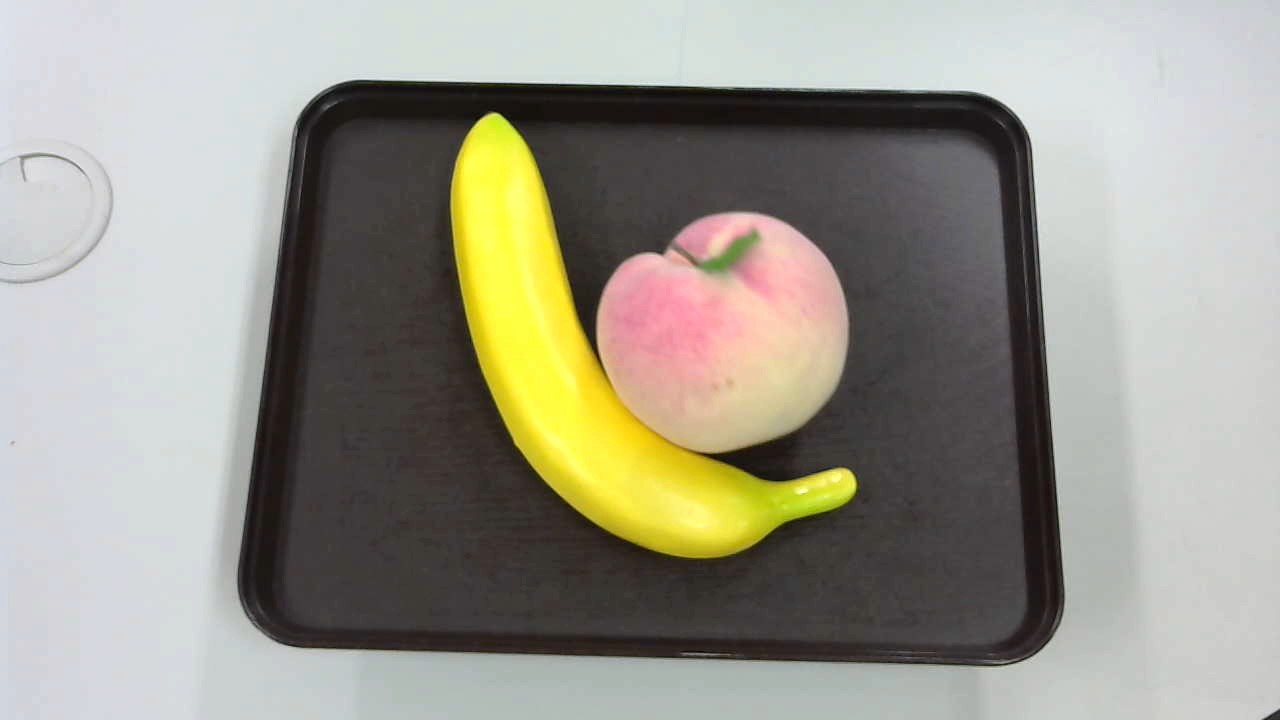banana: (438, 105, 856, 553)
peach: (584, 209, 854, 462)
